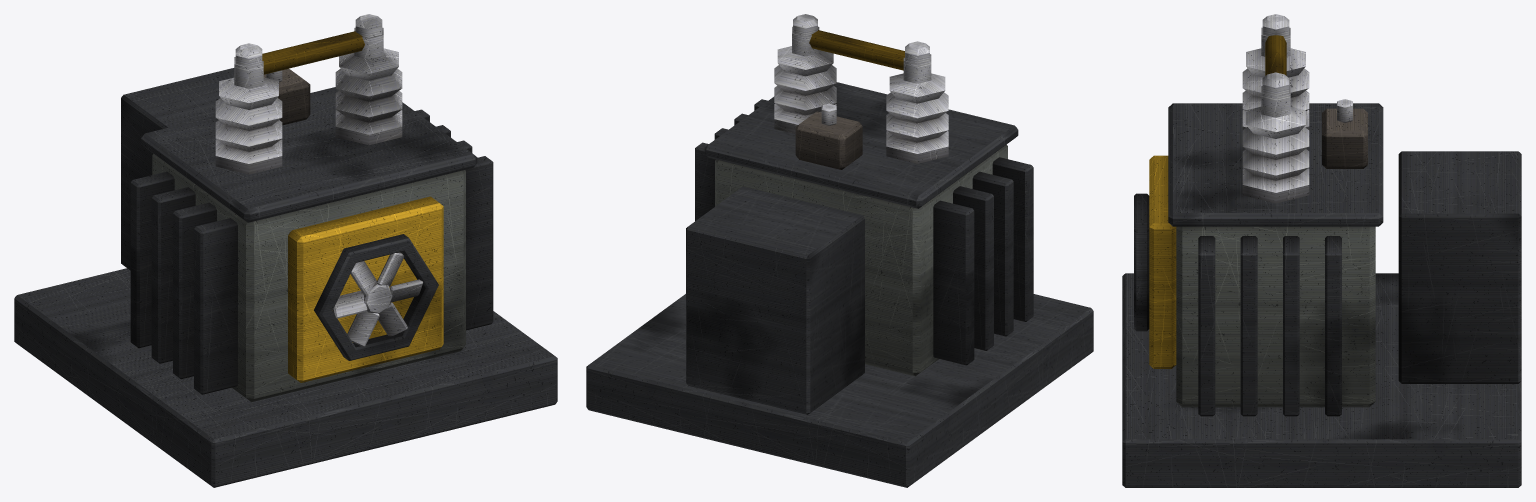
File: R4X_Battery_LOD1.glb
The picture shows the model from 3 angles, left to right: view 1: azimuth 30°, elevation 25°; view 2: azimuth 150°, elevation 25°; view 3: azimuth 270°, elevation 25°; orthographic projection. The views are drawn at different scales.
Visible parts, largest first — view 1: R4X_Battery_LOD1; view 2: R4X_Battery_LOD1; view 3: R4X_Battery_LOD1.
Boxes of the visible parts, left/top/right/bottom form: R4X_Battery_LOD1: left=14, top=14, right=557, bottom=487; R4X_Battery_LOD1: left=586, top=14, right=1093, bottom=487; R4X_Battery_LOD1: left=1122, top=14, right=1521, bottom=487.
Size of the model in its own units: 0.52 by 0.514 by 0.52.
5 materials, 5 textured.
